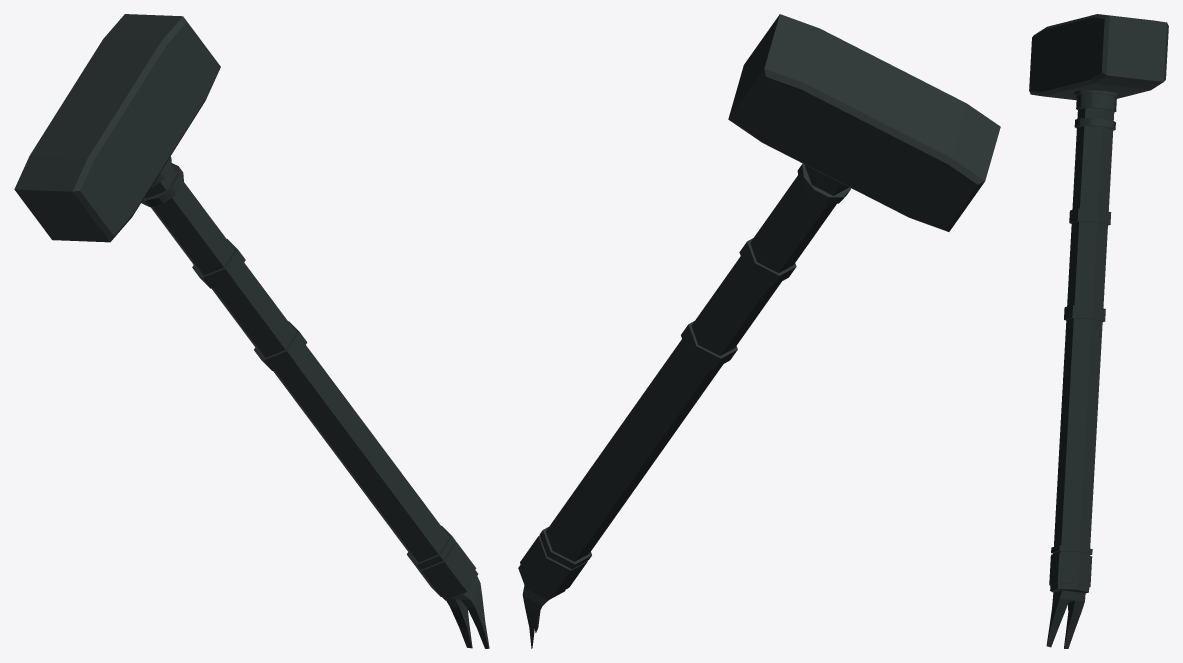
The model's file is crowsledge.fbx.
3 renders of one model, left to right at view 1: azimuth 30°, elevation 25°; view 2: azimuth 150°, elevation 25°; view 3: azimuth 270°, elevation 25°, orthographic. The views are drawn at different scales.
Visible parts, largest first — view 1: node_id6, node_id5; view 2: node_id6, node_id5; view 3: node_id6, node_id5.
Boxes of the visible parts, left/top/right/bottom form: node_id6: left=14, top=14, right=476, bottom=596; node_id5: left=442, top=570, right=489, bottom=648; node_id6: left=520, top=14, right=1000, bottom=596; node_id5: left=518, top=565, right=565, bottom=648; node_id6: left=1029, top=14, right=1168, bottom=587; node_id5: left=1046, top=583, right=1089, bottom=648.
Bounding box in the file's own units: 0.3315 × 0.4789 × 0.1137.
Materials: 2 (2 with a texture image).
